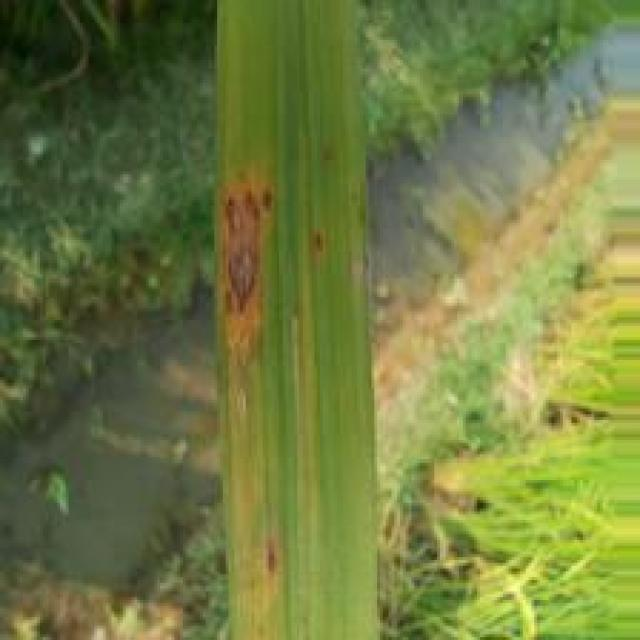Leaf_Blast: (215, 164, 284, 429)
